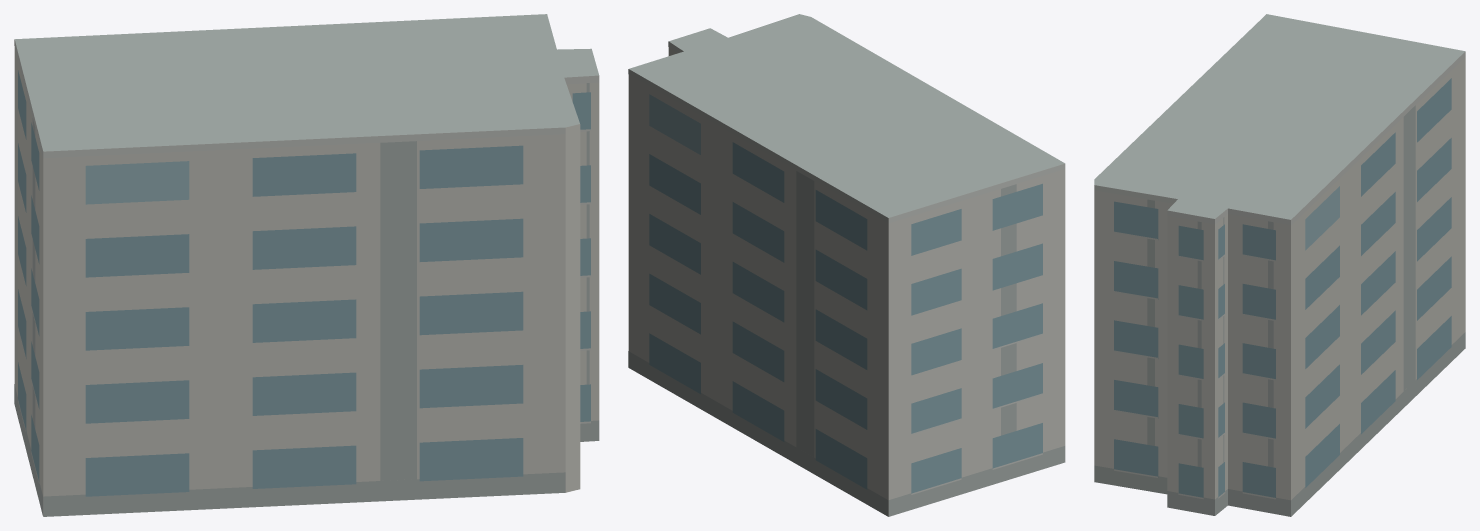
Rendered from survey-upis-32532383.glb.
3 renders of one model, left to right at view 1: azimuth 30°, elevation 25°; view 2: azimuth 150°, elevation 25°; view 3: azimuth 270°, elevation 25°, orthographic. The views are drawn at different scales.
Visible parts, largest first — view 1: survey-upis-32532383.tmp; view 2: survey-upis-32532383.tmp; view 3: survey-upis-32532383.tmp.
Boxes of the visible parts, x1,y1,x2,y2 form: survey-upis-32532383.tmp: [14, 14, 599, 516]; survey-upis-32532383.tmp: [628, 14, 1065, 516]; survey-upis-32532383.tmp: [1094, 14, 1465, 516].
Bounding box in the file's own units: 19.48 × 13.1 × 14.85.
